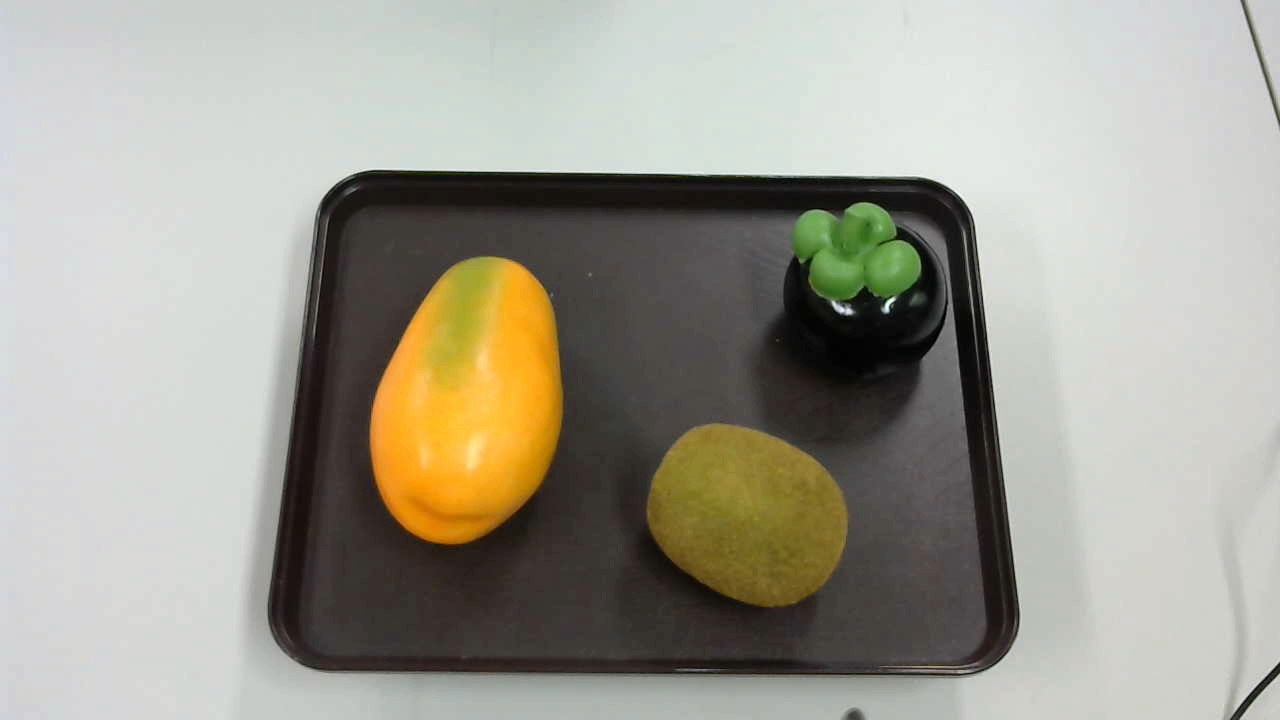kiwi fruit: (639, 413, 853, 622)
mangosteen: (776, 201, 949, 392)
papya: (362, 255, 572, 552)
